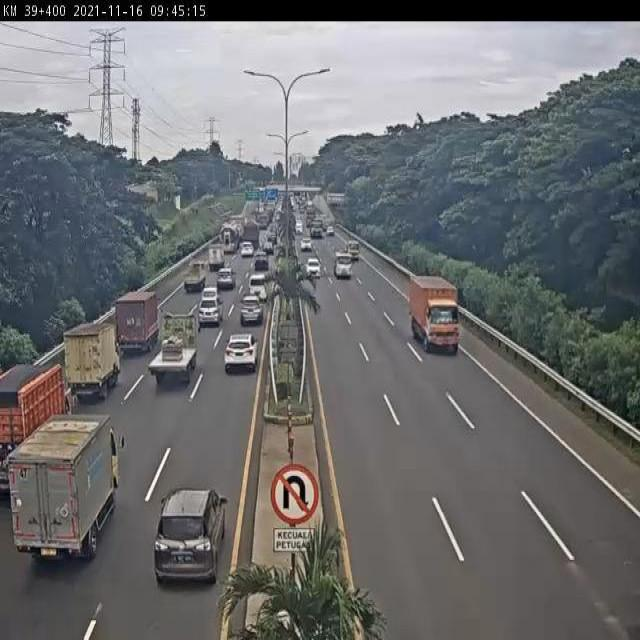car: (151, 490, 223, 586), (225, 333, 257, 372), (238, 296, 262, 327), (197, 300, 220, 327), (248, 276, 267, 301), (216, 268, 235, 291), (200, 291, 216, 304)
small truck: (12, 421, 119, 559), (62, 328, 117, 407), (116, 292, 158, 353), (182, 264, 205, 293), (206, 246, 223, 270)
truck-m-: (410, 274, 460, 350), (150, 313, 197, 388)
